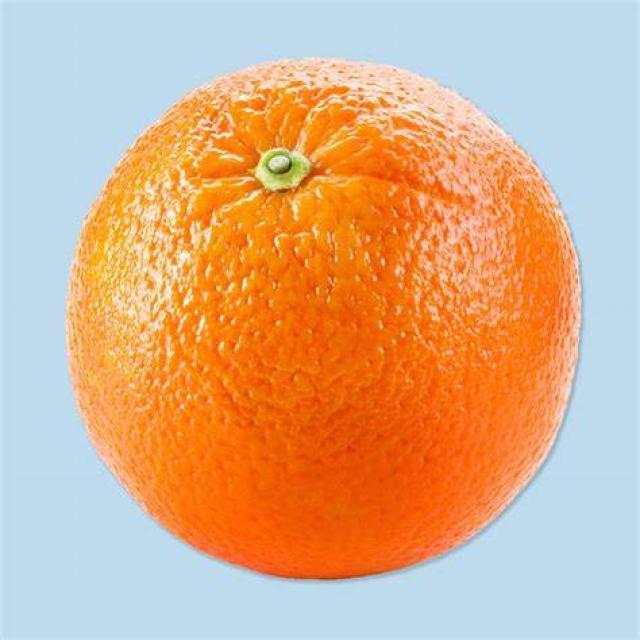Orange: (60, 58, 585, 585)
